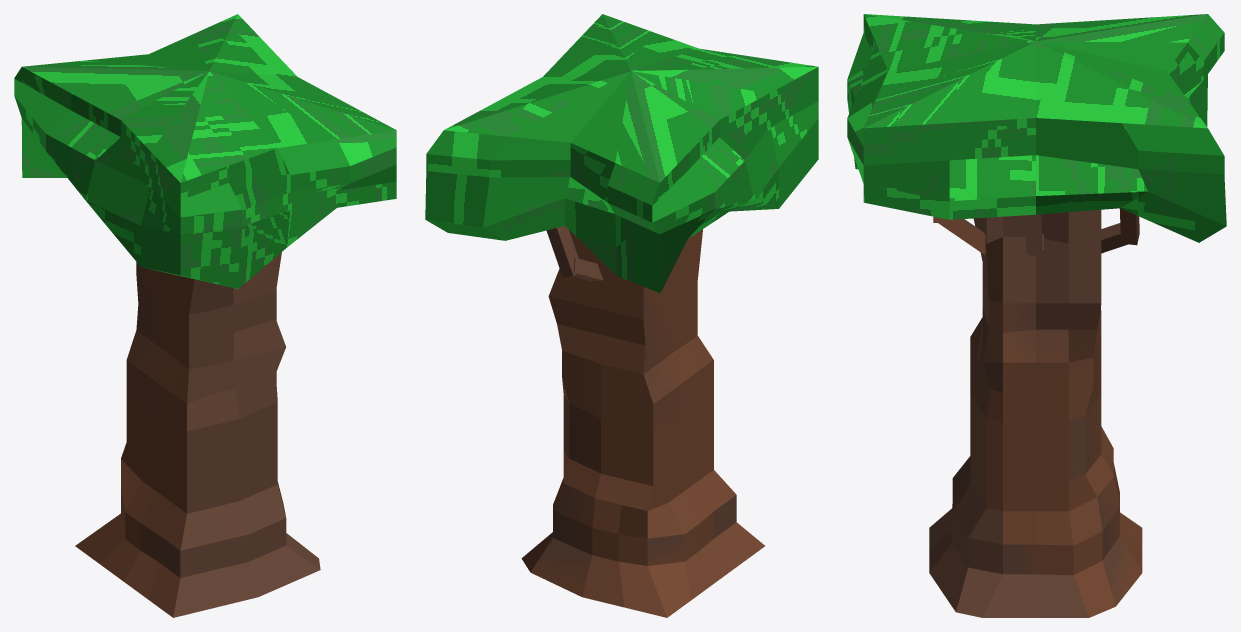
The model's file is BEES Model Tree V1-1 gltf.gltf.
3 views of the same model, side by side, from view 1: azimuth 30°, elevation 25°; view 2: azimuth 150°, elevation 25°; view 3: azimuth 270°, elevation 25° (orthographic). The views are drawn at different scales.
Visible parts, largest first — view 1: leaves, trunk; view 2: leaves, trunk, cuboid; view 3: leaves, trunk, cuboid (×4).
Boxes of the visible parts, box(x1,y1,x2,y2) form: leaves: box(14, 14, 396, 288); trunk: box(75, 252, 320, 617); leaves: box(425, 14, 818, 292); trunk: box(521, 229, 764, 617); cuboid: box(546, 226, 578, 277); leaves: box(847, 14, 1226, 242); trunk: box(929, 209, 1142, 617); cuboid (×4): box(934, 208, 1139, 254).
Size of the model in its own units: 4.64 by 8.94 by 5.78.
1 material, 1 textured.
